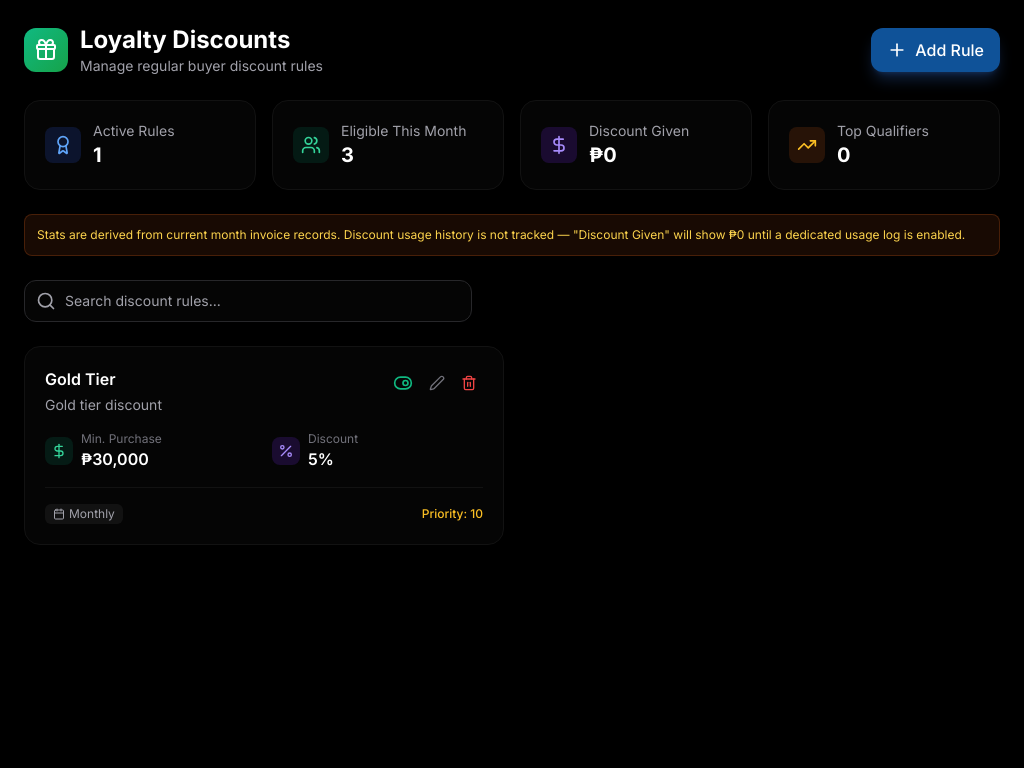
Test: LoyaltyDiscountRulesView › shows customer picker when customer based type is selected
This screenshot has width=1024, height=768.
Expected: the heading "Gold Tier" is shown, [45,369,116,389]
Click the button "Add Rule" at (936, 50), box [871,28,1000,72]
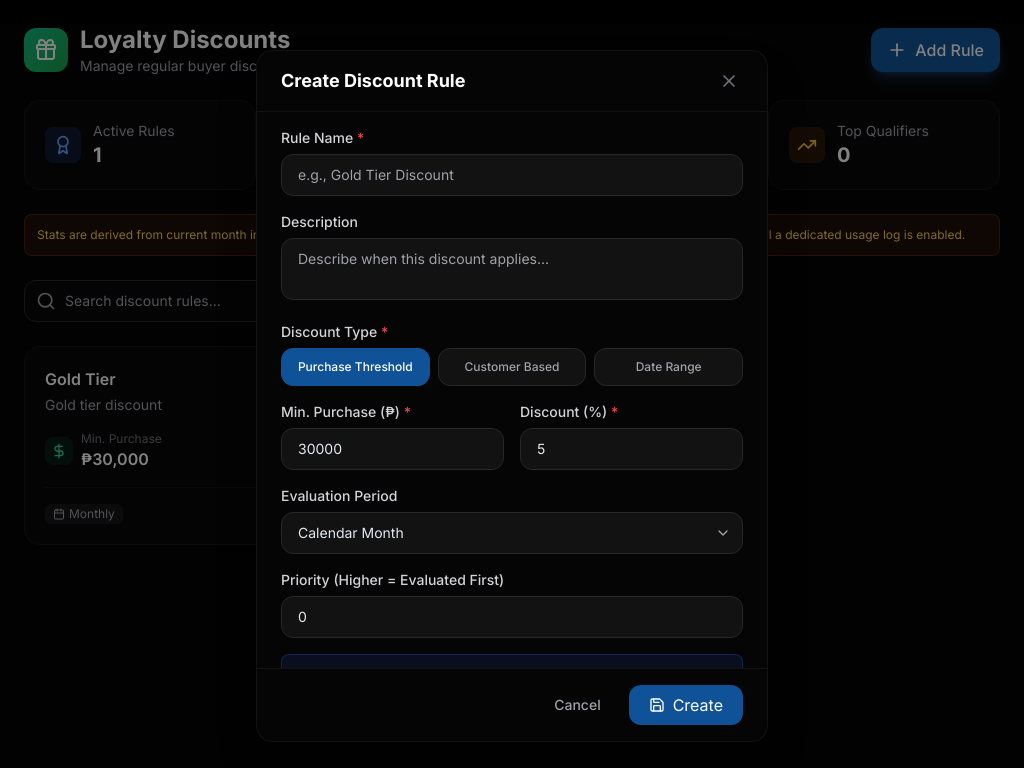
Expected: the heading "Create Discount Rule" is shown, [281,67,465,95]
Click the button "Customer Based" at (512, 367), box [438,348,586,386]
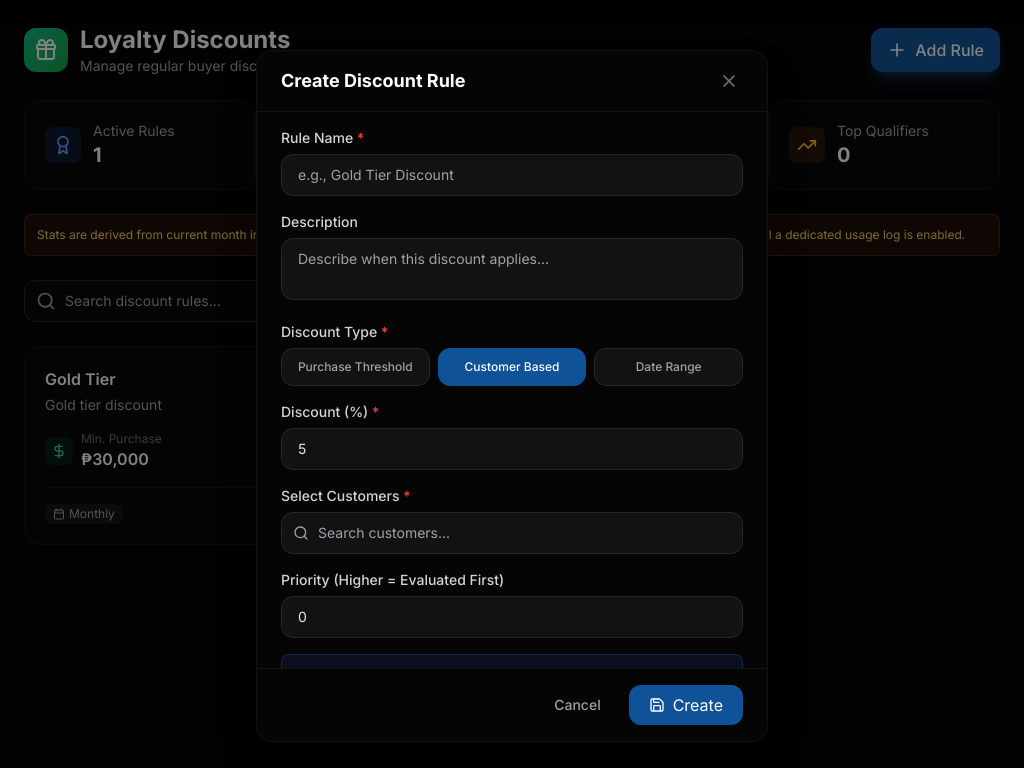
Expected: the field with placeholder "Search customers..." is shown, [281,512,743,554]
